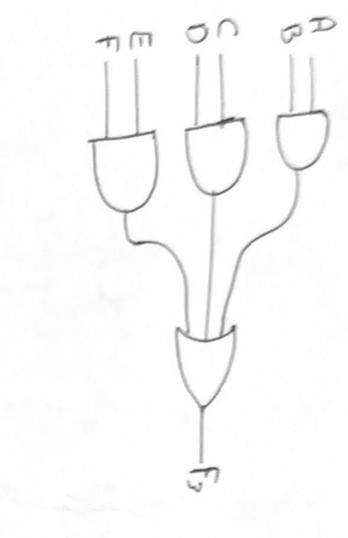AND: (77, 129, 168, 219), (182, 113, 255, 201), (268, 104, 340, 182)
OR: (152, 315, 252, 420)
